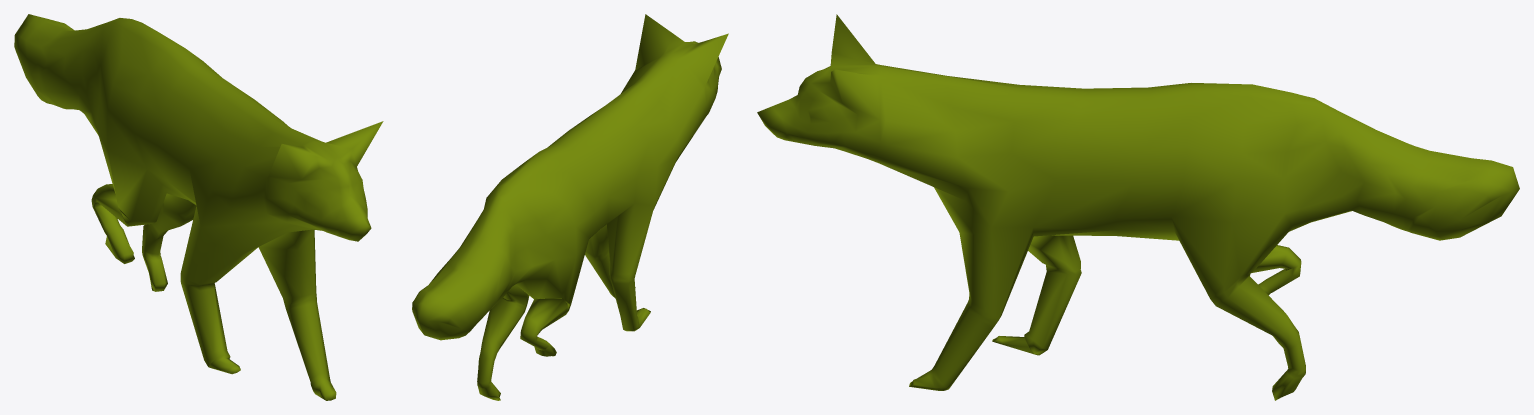
The model's file is focx.obj.
The picture shows the model from 3 angles, left to right: view 1: azimuth 30°, elevation 25°; view 2: azimuth 150°, elevation 25°; view 3: azimuth 270°, elevation 25°; orthographic projection. The views are drawn at different scales.
Visible parts, largest first — view 1: kettu; view 2: kettu; view 3: kettu.
Part boxes in pixels (bbox=[...]): kettu: bbox=[14, 14, 383, 400]; kettu: bbox=[412, 14, 728, 400]; kettu: bbox=[757, 14, 1519, 400].
Bounding box in the file's own units: 10.93 × 29.97 × 60.49.
